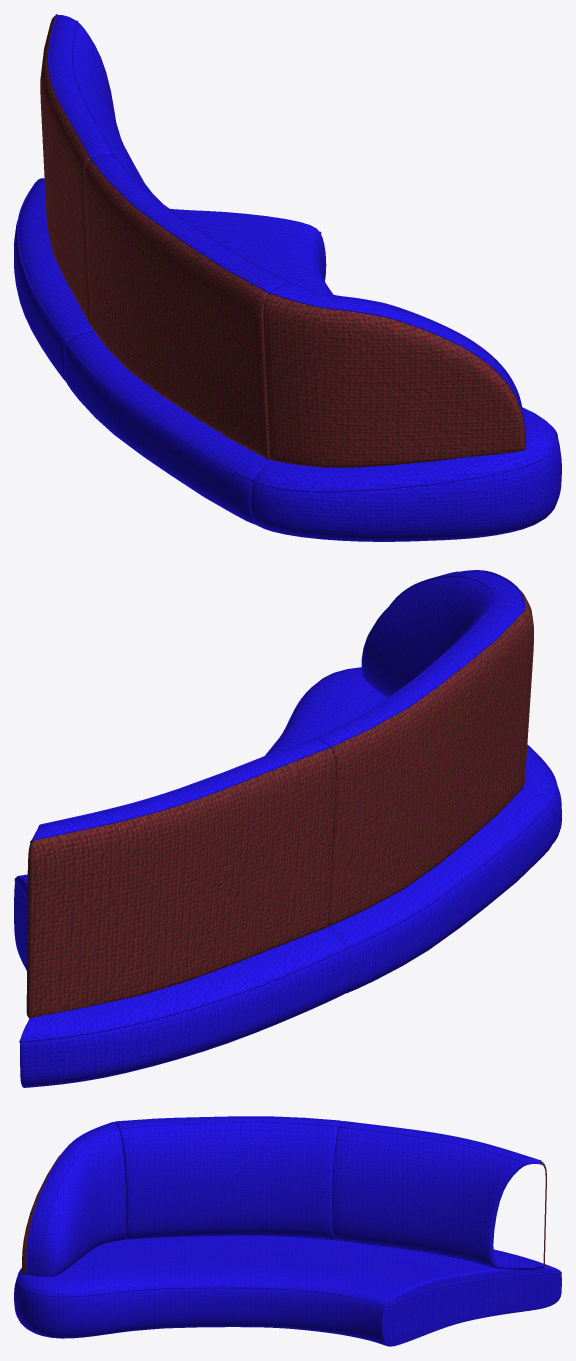
The model's file is levante_m_female_mirror.gltf.
3 views of the same model, one above another, from view 1: azimuth 30°, elevation 25°; view 2: azimuth 150°, elevation 25°; view 3: azimuth 270°, elevation 25° (orthographic). The views are drawn at different scales.
Visible parts, largest first — view 1: levante_m_female001; view 2: levante_m_female001; view 3: levante_m_female001.
Boxes of the visible parts, box(x1,y1,x2,y2) form: levante_m_female001: box(14, 14, 561, 541); levante_m_female001: box(14, 570, 561, 1087); levante_m_female001: box(14, 1116, 561, 1346).
Size of the model in its own units: 0.9371 by 0.6989 by 2.29.
2 materials, 2 textured.
